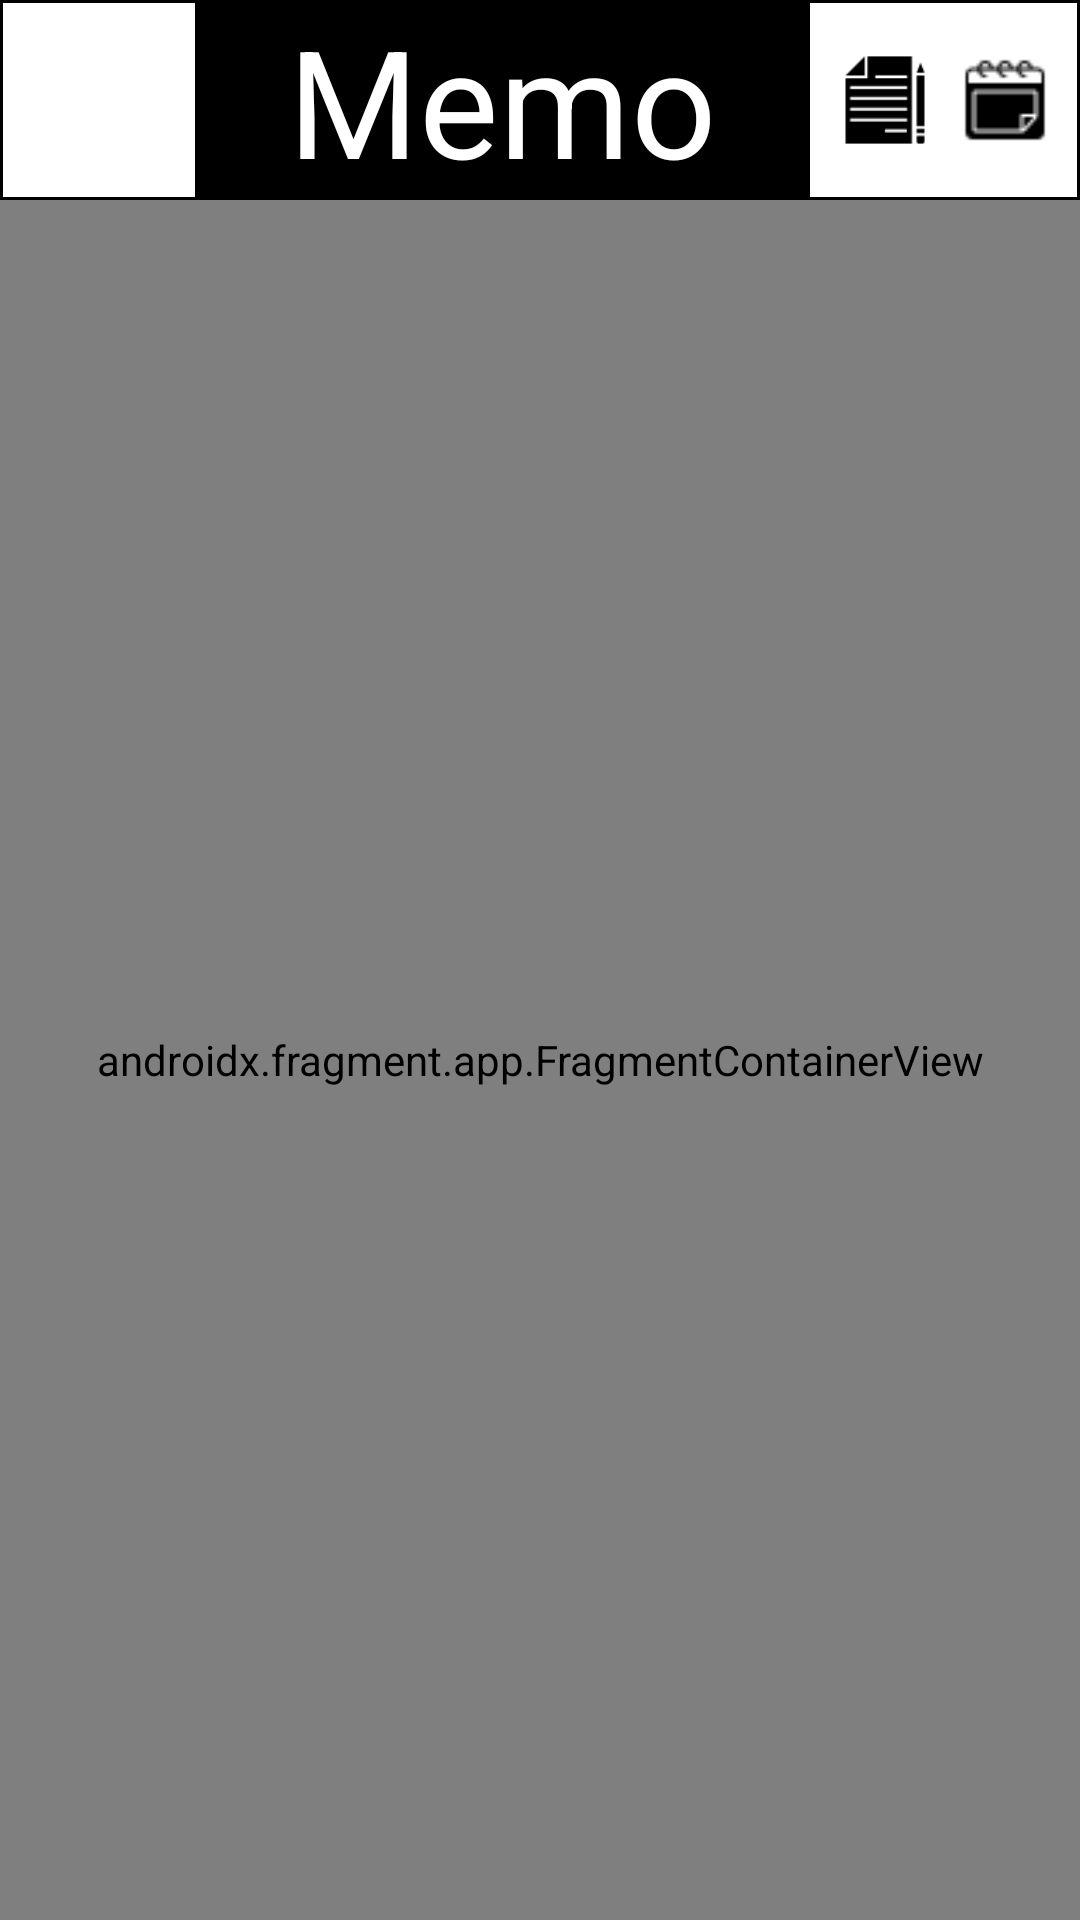

Screen size 1080 × 1920. Icon name, then its center in pixels as (x=x, y=y):
calendar by: (x=1005, y=100)
writing by: (x=885, y=100)
